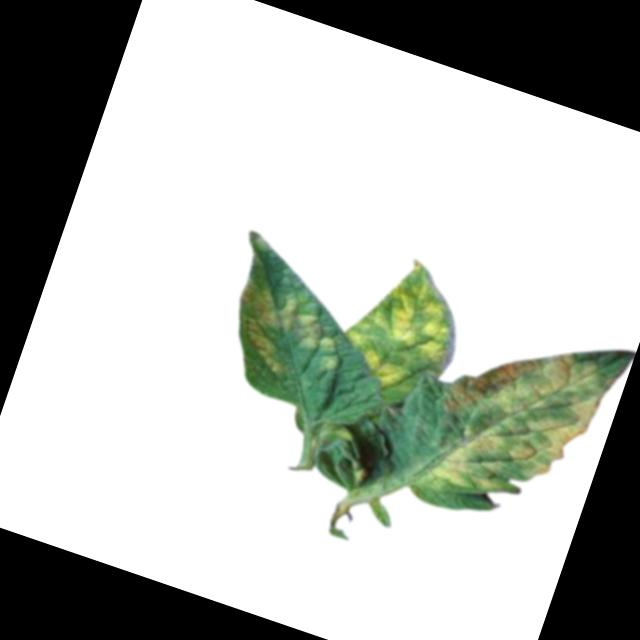Leaf_Mold: (413, 317, 626, 535), (334, 250, 475, 405), (220, 276, 352, 391)
